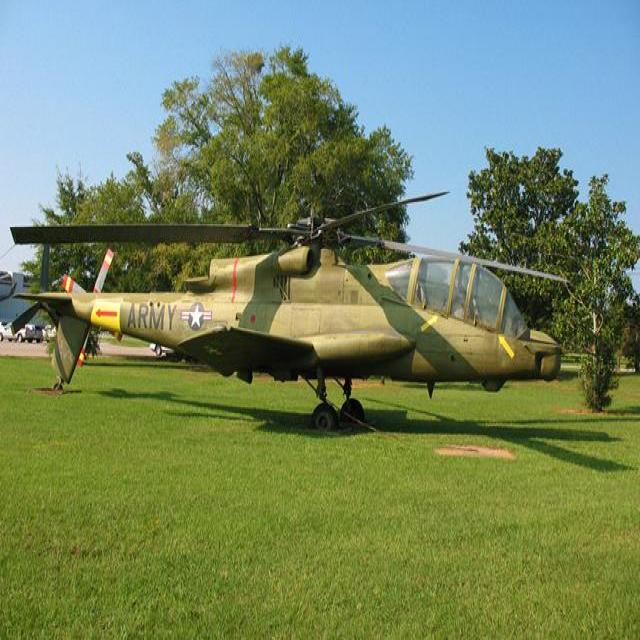MIL_HELO: (0, 185, 580, 432)
